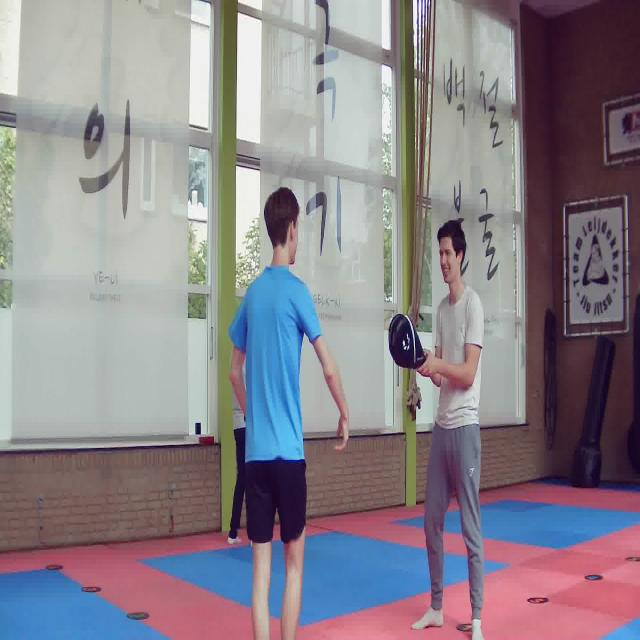paddle: (389, 313, 427, 369)
